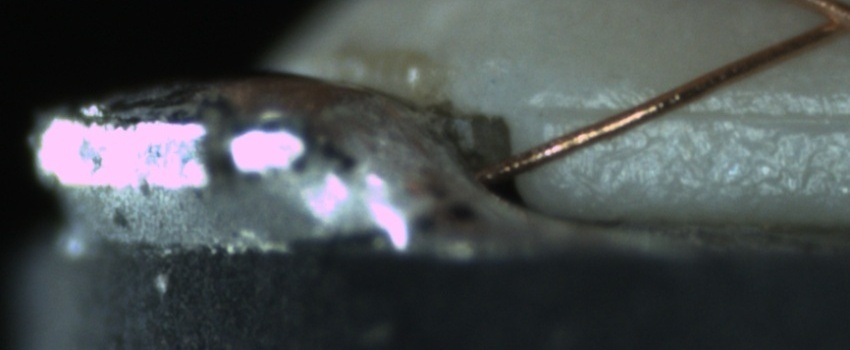CL: (803, 3, 850, 43)
DL: (539, 82, 846, 144)
